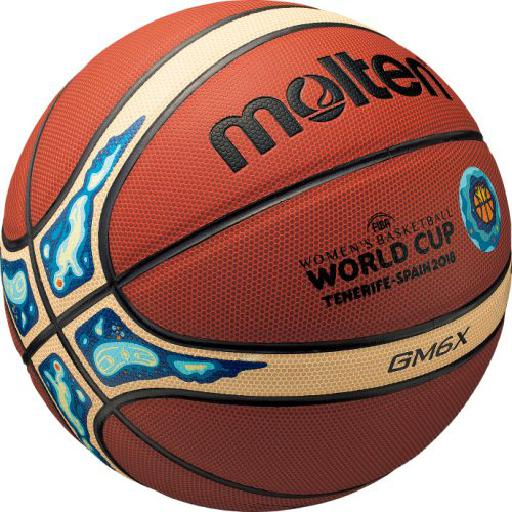ball: (2, 1, 511, 512)
